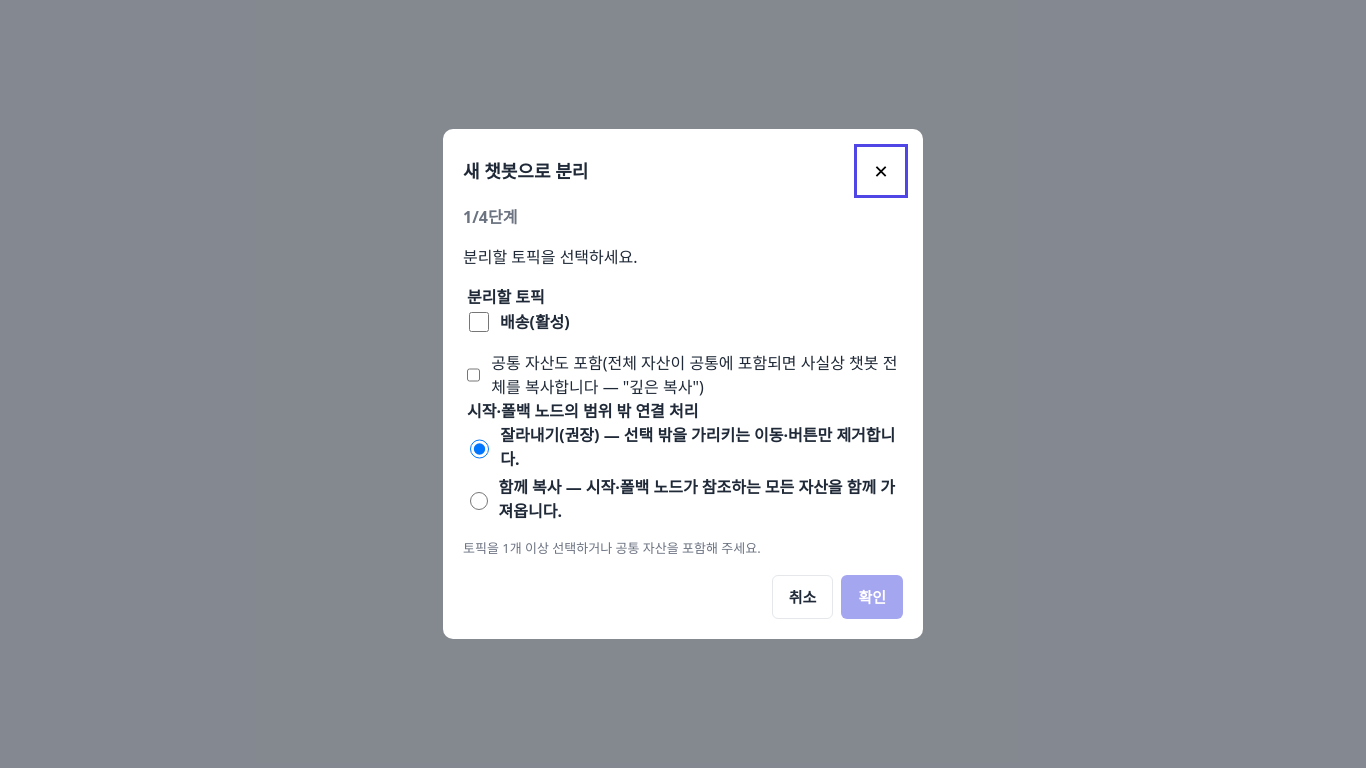
Test: TopicSplitWizard › exceeded 종류가 있으면 2단계 다음 버튼이 비활성이고 상한 초과 배너가 보인다
The width and height of the screenshot is (1366, 768).
What coordinates should you click on to do the following:
click the checkbox labelled "배송(활성)"
I would click on:
 (479, 322)
Its box is [469,312,489,332].
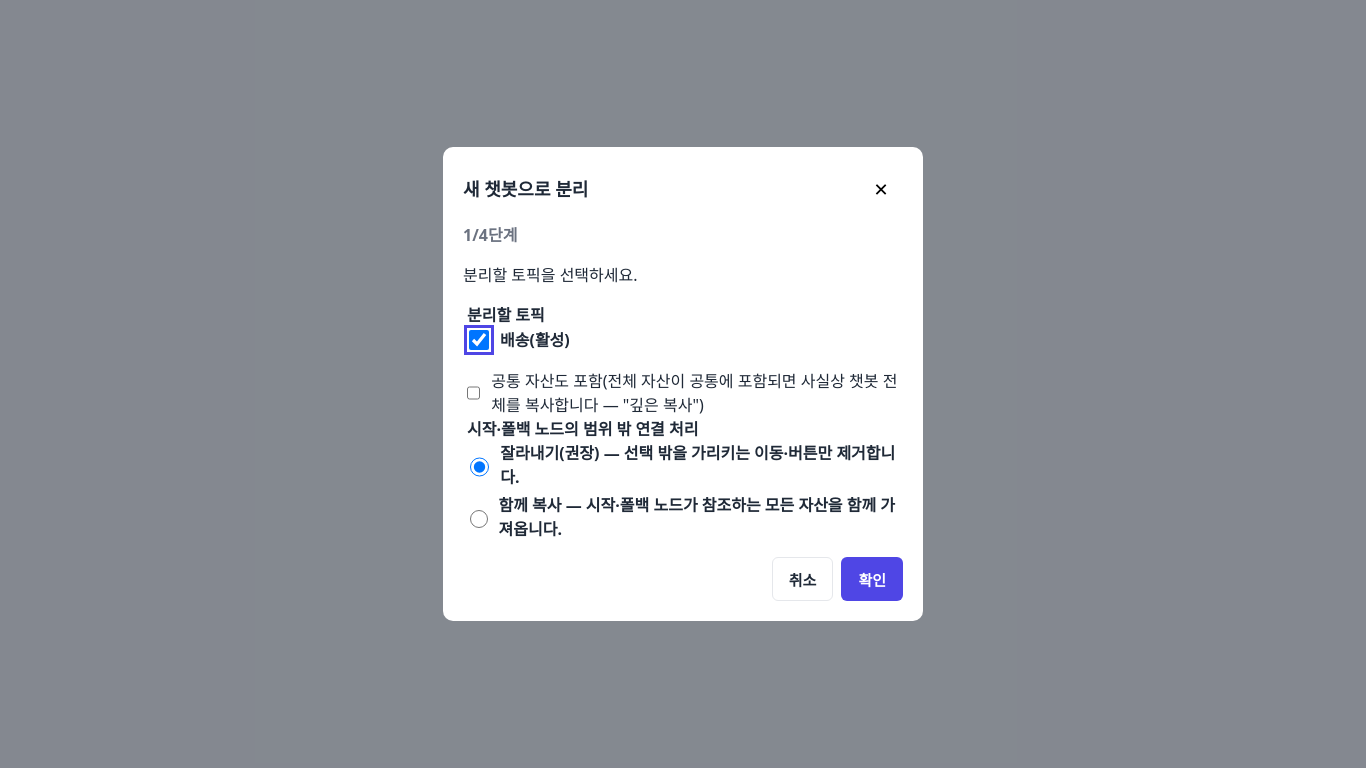
What coordinates should you click on to do the following:
click the button "확인"
I would click on:
 (872, 579)
Its box is [841,557,903,601].
(page scrolled)
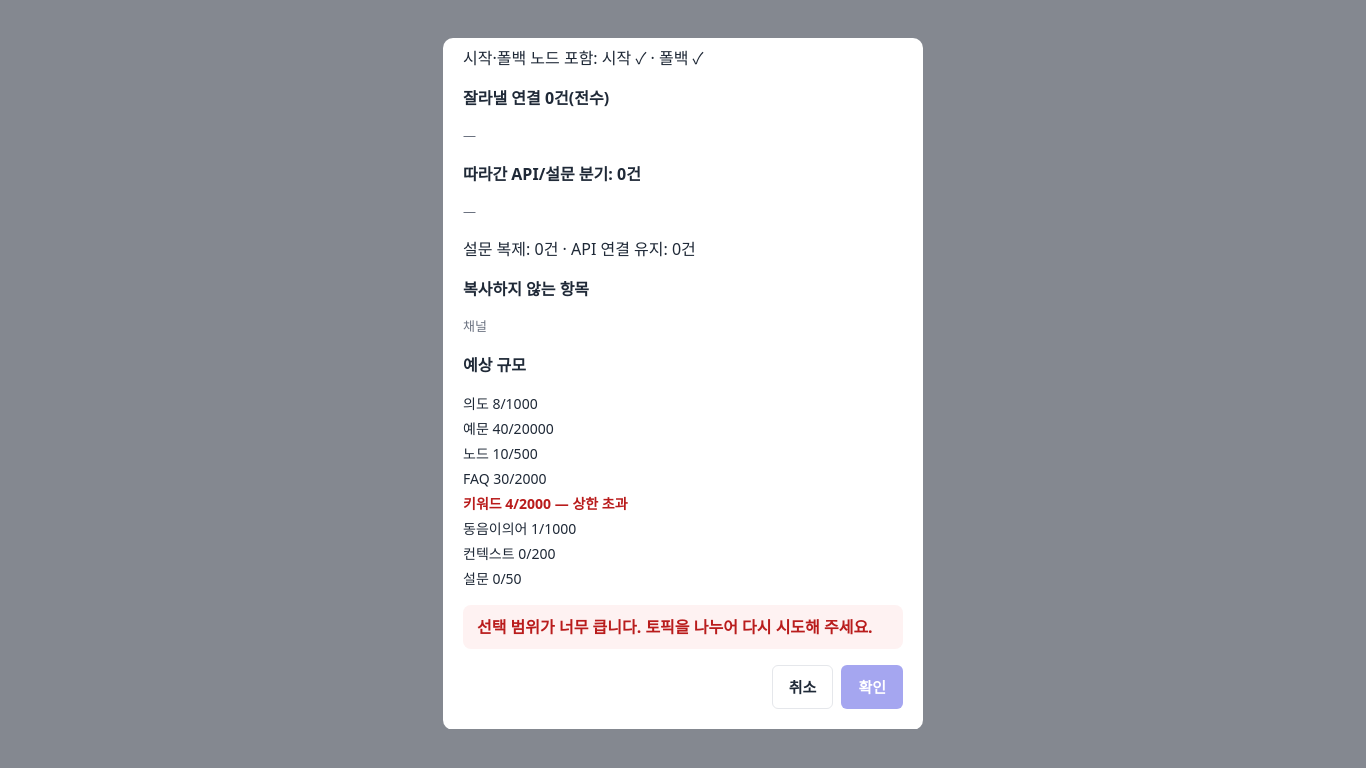
Check: the text "선택 범위가 너무 큽니다. 토픽을 나누어 다시 시도해 주세요." is shown, box [463,605,903,649]
Check: the button "확인" is disabled, box [841,665,903,709]
